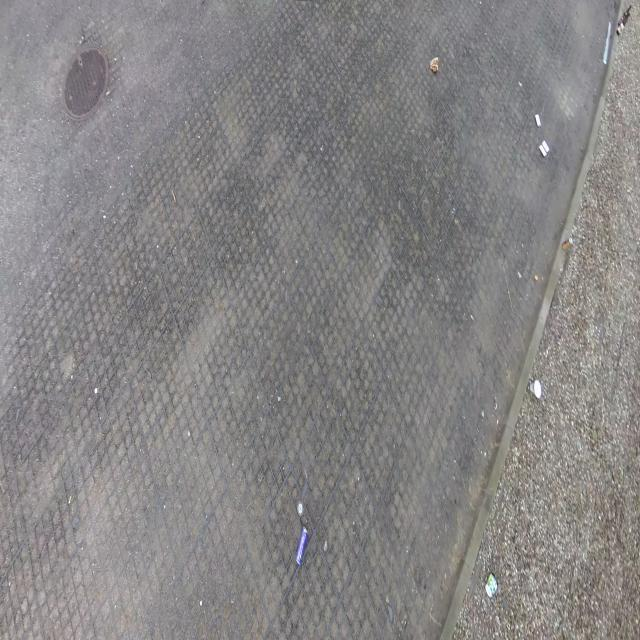rubbish: (295, 526, 309, 566), (602, 20, 612, 66), (485, 572, 499, 598), (616, 11, 630, 36), (618, 6, 631, 26), (530, 380, 541, 400), (429, 55, 439, 72), (562, 237, 572, 252), (541, 139, 551, 153), (539, 144, 548, 158), (534, 114, 541, 127), (298, 502, 303, 515)
